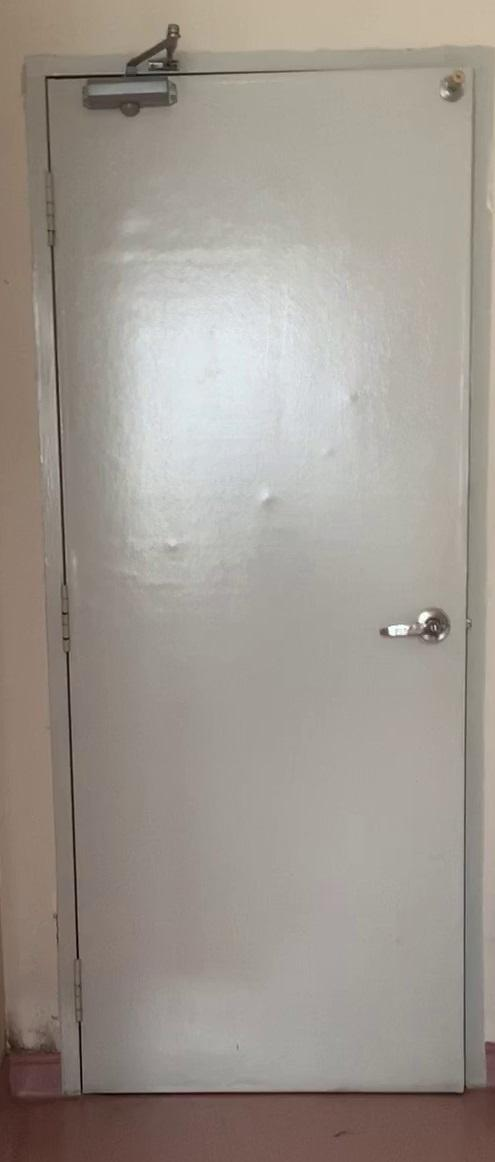door: (54, 64, 482, 1121)
